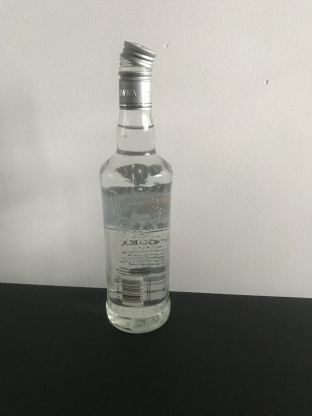nakretka: (117, 38, 156, 109)
